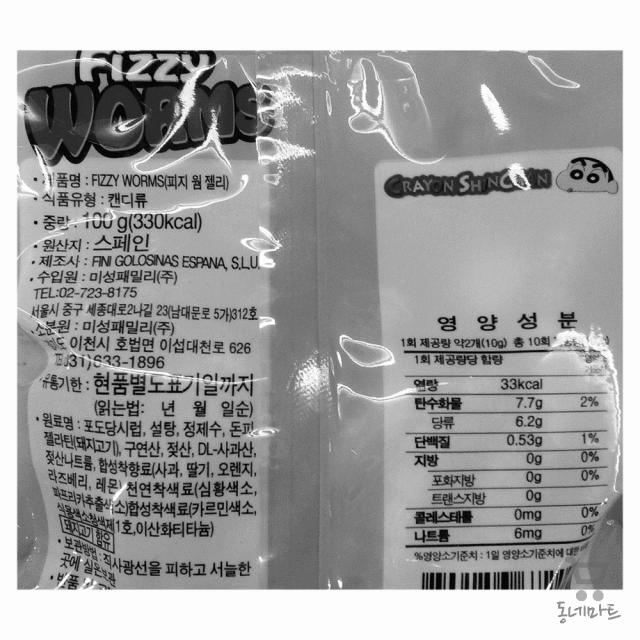Nutrition Label: (392, 302, 619, 567)
